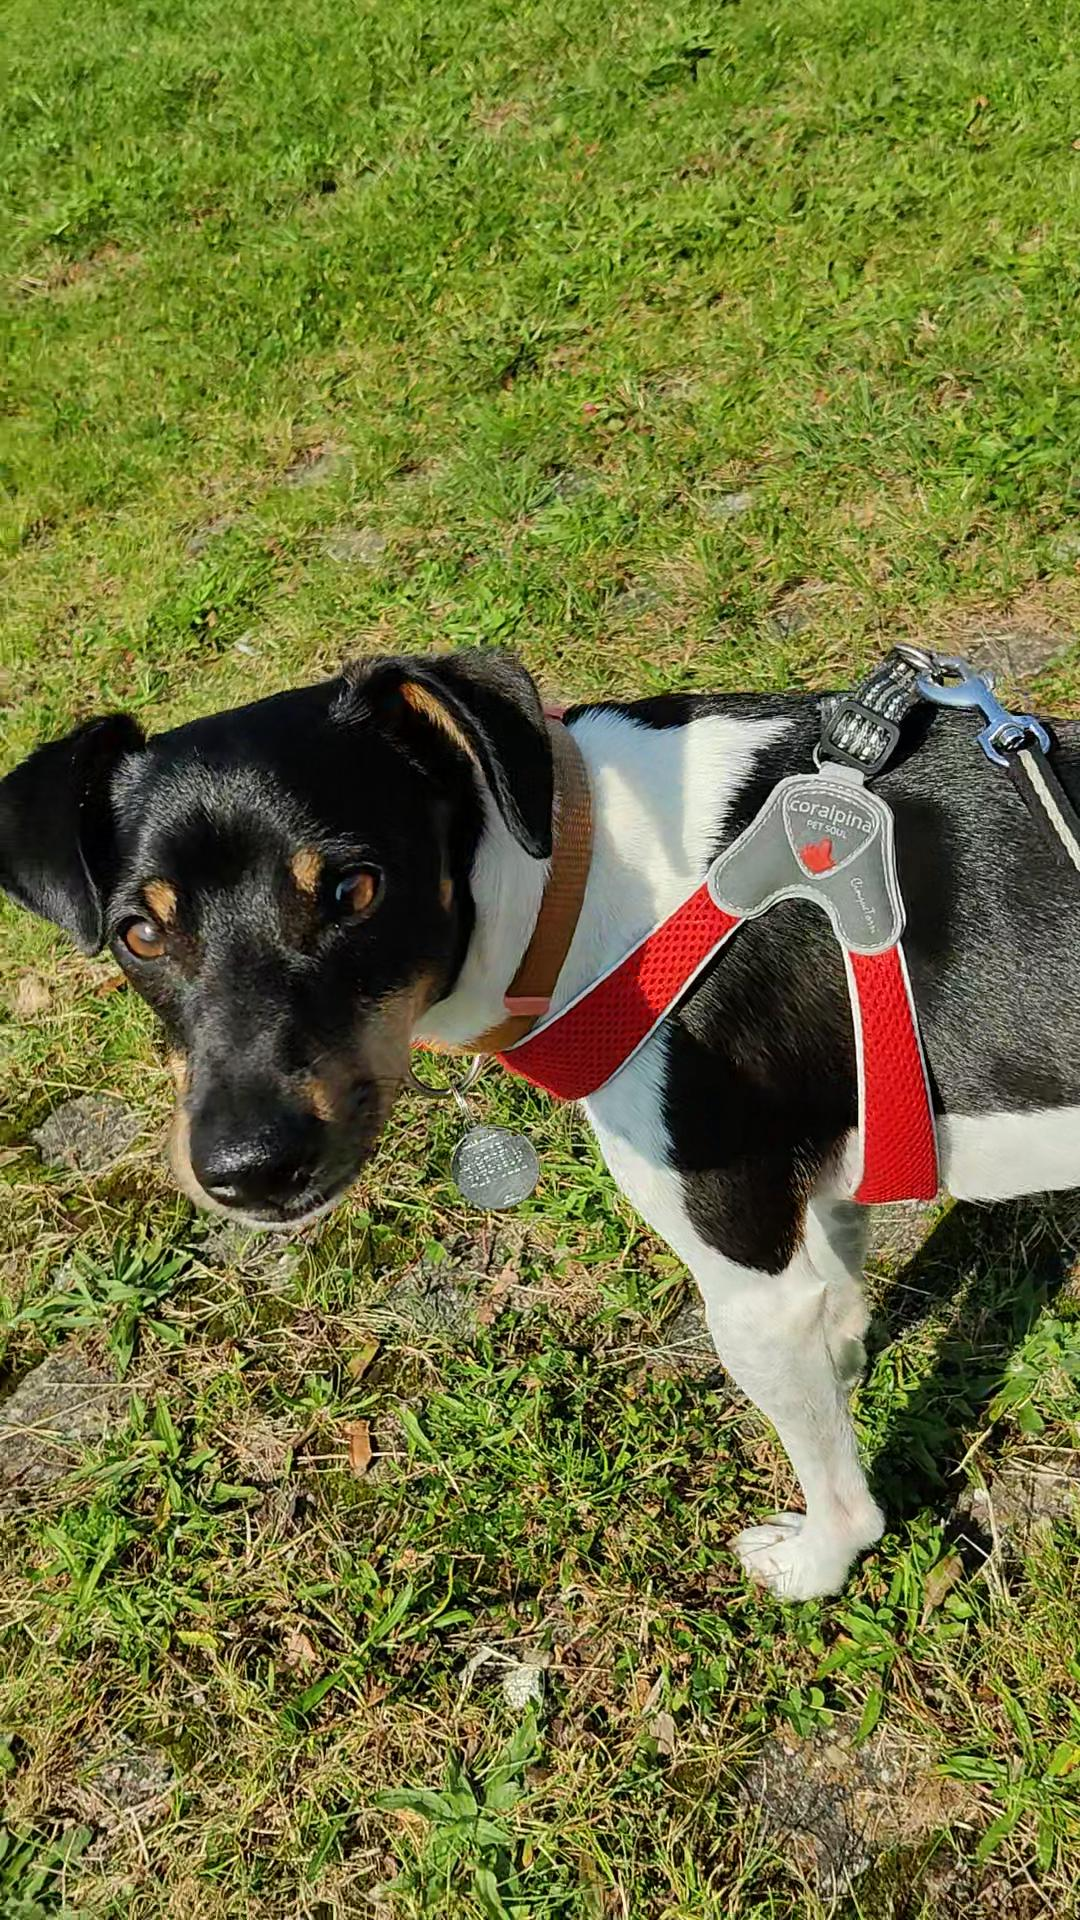Dog: (0, 630, 1079, 1615)
